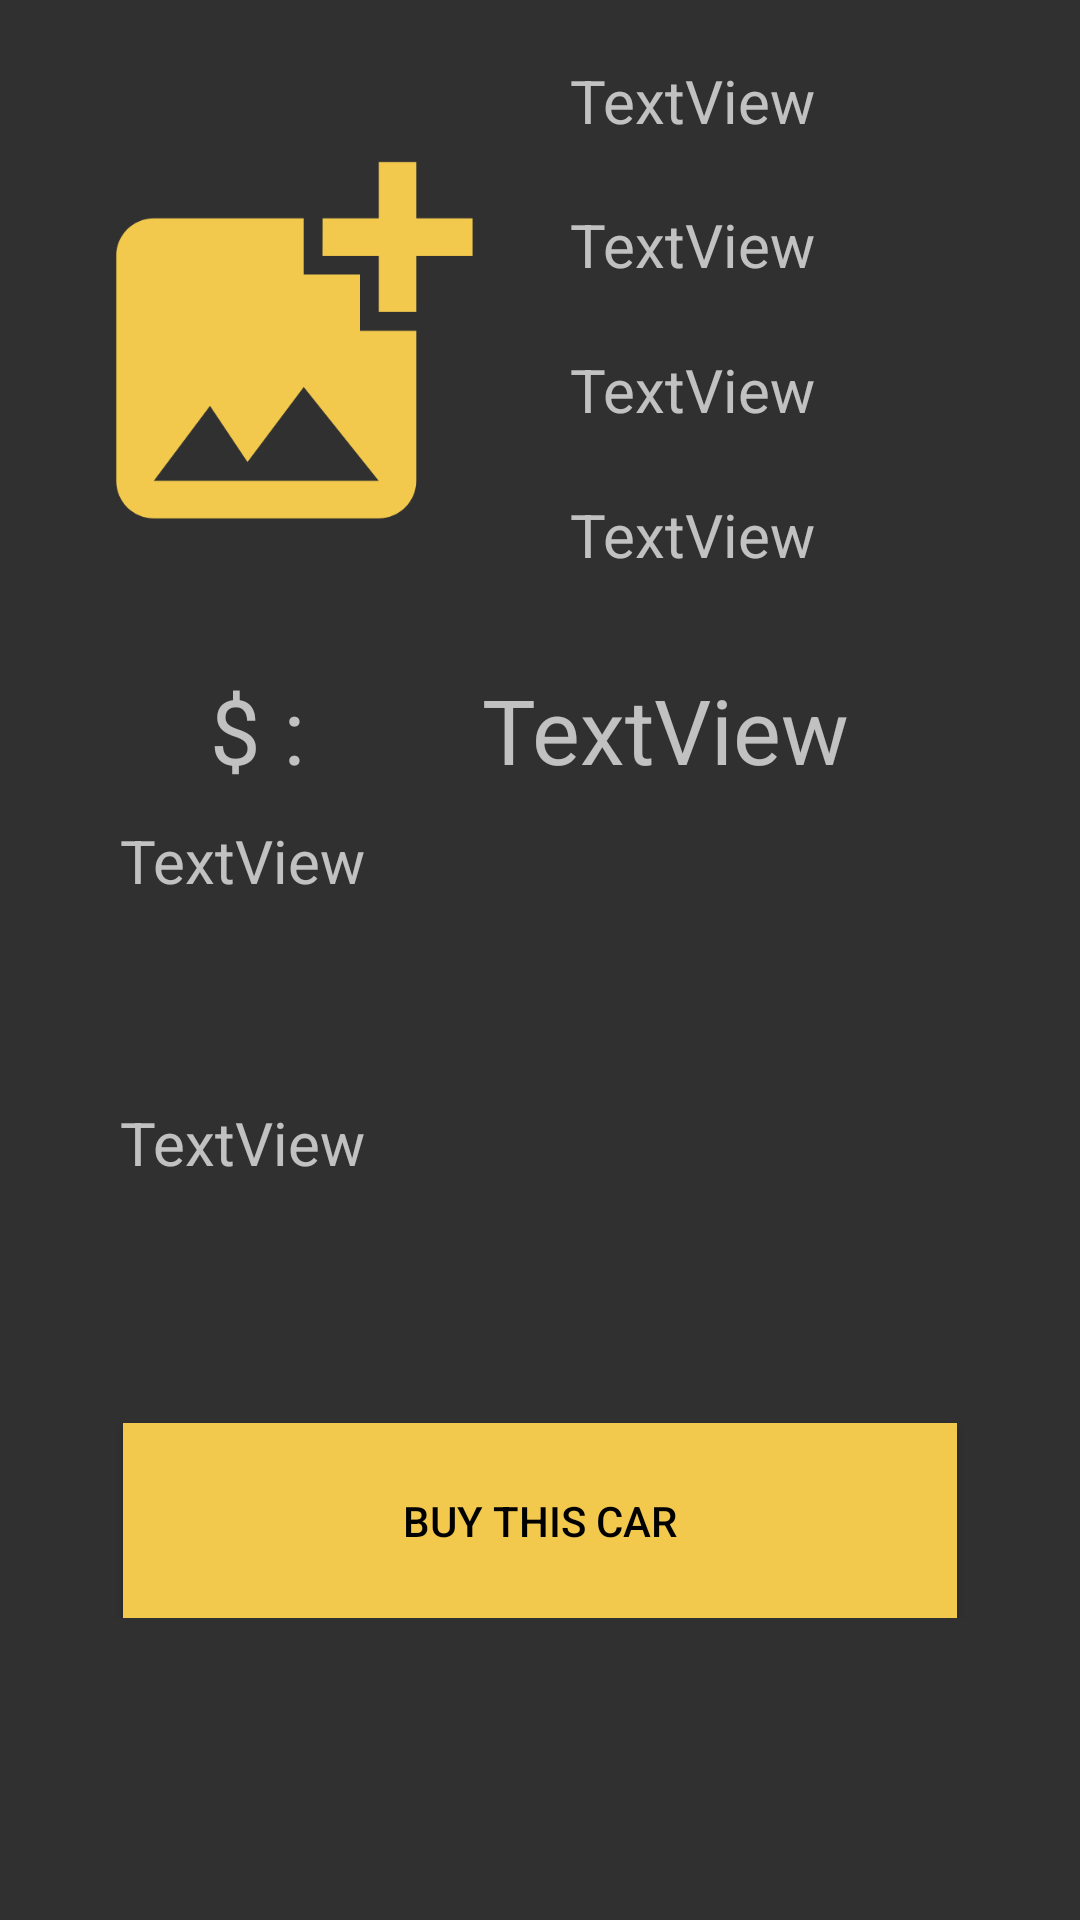

Point at icon controls on the screen. Image size 1080*1920, points as (x=x, y=y).
add photo alternate: (x=294, y=340)
